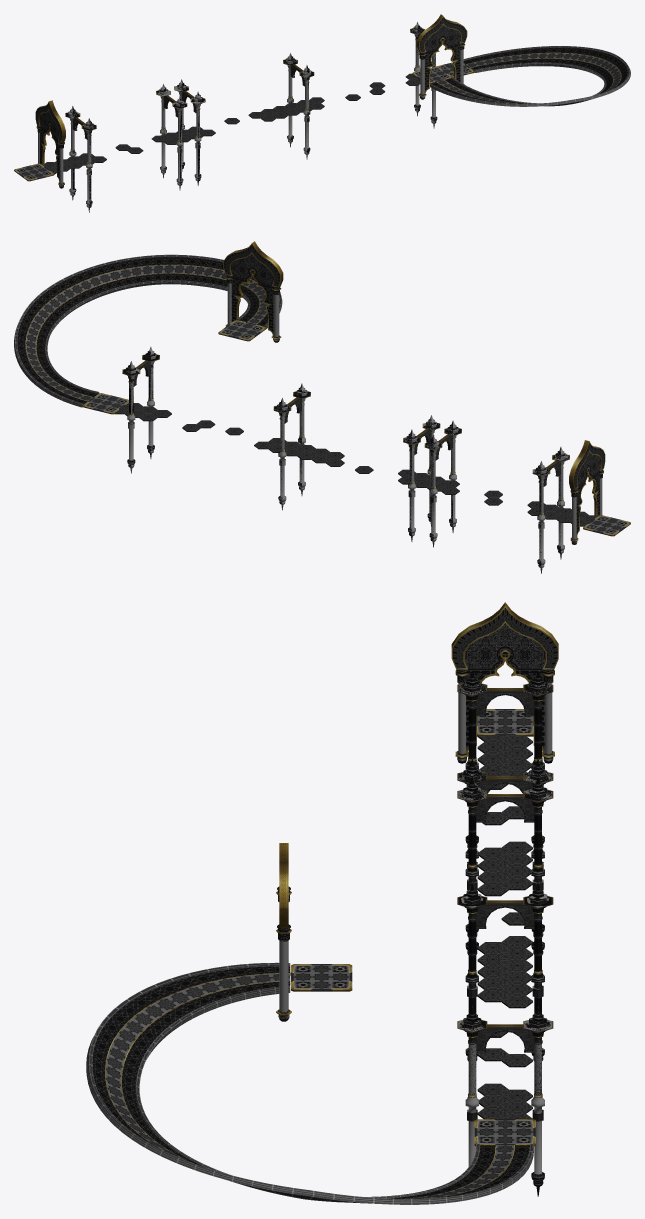
File: NPSpaceBonus.gltf
The picture shows the model from 3 angles, top to bottom: view 1: azimuth 30°, elevation 25°; view 2: azimuth 150°, elevation 25°; view 3: azimuth 270°, elevation 25°; orthographic projection. The views are drawn at different scales.
Visible parts, largest first — view 1: stg071_k23_Mesh_0008, stg071_k23_Mesh_0000, stg071_k23_Mesh_0018, stg071_k23_Mesh_0023, stg071_k23_Mesh_0004, stg071_o23_Mesh_0004, stg071_k23_Mesh_0011, stg071_o23_Mesh_0006, stg071_k23_Mesh_0005, stg071_k23_Mesh_0016, stg071_k23_Mesh_0013, stg071_k23_Mesh_0029 (+6 smaller); view 2: stg071_k23_Mesh_0018, stg071_k23_Mesh_0008, stg071_k23_Mesh_0000, stg071_k23_Mesh_0004, stg071_k23_Mesh_0023, stg071_k23_Mesh_0005, stg071_k23_Mesh_0013, stg071_o23_Mesh_0004, stg071_k23_Mesh_0011, stg071_o23_Mesh_0006, stg071_k23_Mesh_0029, stg071_k23_Mesh_0016 (+5 smaller); view 3: stg071_k23_Mesh_0000, stg071_k23_Mesh_0018, stg071_k23_Mesh_0023, stg071_k23_Mesh_0004, stg071_k23_Mesh_0005, stg071_k23_Mesh_0029, stg071_k23_Mesh_0008, stg071_k23_Mesh_0013, stg071_k23_Mesh_0017, stg071_k23_Mesh_0012, stg071_k23_Mesh_0032, stg071_o23_Mesh_0003 (+5 smaller).
Boxes of the visible parts, x1,y1,x2,y2 form: stg071_k23_Mesh_0008: [68, 22, 436, 212]; stg071_k23_Mesh_0000: [43, 73, 420, 174]; stg071_k23_Mesh_0018: [431, 48, 627, 103]; stg071_k23_Mesh_0023: [430, 46, 630, 106]; stg071_k23_Mesh_0004: [437, 53, 621, 103]; stg071_o23_Mesh_0004: [416, 14, 467, 96]; stg071_k23_Mesh_0011: [419, 17, 466, 66]; stg071_o23_Mesh_0006: [35, 100, 65, 185]; stg071_k23_Mesh_0005: [72, 44, 435, 201]; stg071_k23_Mesh_0016: [425, 24, 460, 50]; stg071_k23_Mesh_0013: [72, 27, 437, 205]; stg071_k23_Mesh_0029: [72, 34, 420, 139]; stg071_k23_Mesh_0018: [17, 257, 267, 404]; stg071_k23_Mesh_0008: [123, 347, 569, 573]; stg071_k23_Mesh_0000: [115, 403, 598, 526]; stg071_k23_Mesh_0004: [26, 265, 267, 400]; stg071_k23_Mesh_0023: [14, 254, 282, 407]; stg071_k23_Mesh_0005: [129, 370, 560, 552]; stg071_k23_Mesh_0013: [126, 353, 565, 564]; stg071_o23_Mesh_0004: [223, 241, 283, 339]; stg071_k23_Mesh_0011: [224, 244, 279, 303]; stg071_o23_Mesh_0006: [569, 440, 605, 541]; stg071_k23_Mesh_0029: [133, 361, 560, 486]; stg071_k23_Mesh_0016: [231, 253, 273, 284]; stg071_k23_Mesh_0000: [477, 735, 532, 1119]; stg071_k23_Mesh_0018: [92, 966, 529, 1198]; stg071_k23_Mesh_0023: [86, 962, 533, 1204]; stg071_k23_Mesh_0004: [105, 973, 513, 1198]; stg071_k23_Mesh_0005: [465, 707, 544, 1095]; stg071_k23_Mesh_0029: [476, 690, 534, 1052]; stg071_k23_Mesh_0008: [458, 675, 552, 1182]; stg071_k23_Mesh_0013: [463, 681, 547, 1182]; stg071_k23_Mesh_0017: [464, 623, 545, 668]; stg071_k23_Mesh_0012: [453, 608, 557, 699]; stg071_k23_Mesh_0032: [458, 684, 552, 1033]; stg071_o23_Mesh_0003: [457, 683, 553, 1097].
Bounding box in the file's own units: 321 × 88.8 × 121.
16 materials, 15 textured.
